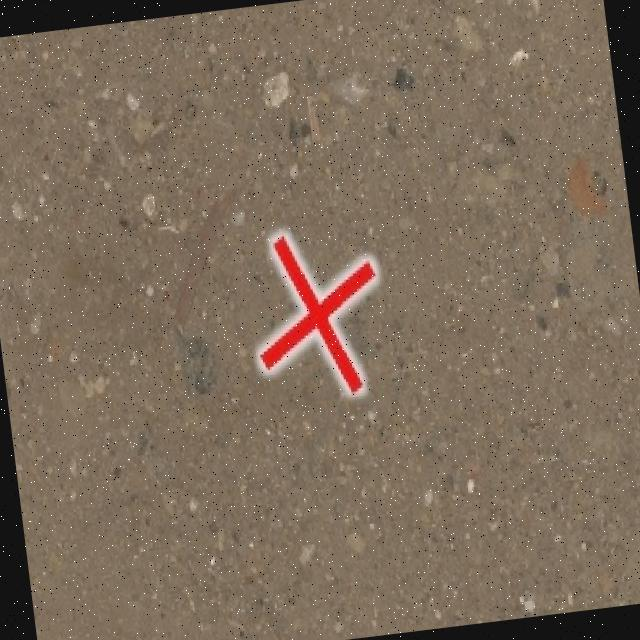x_marker: (245, 224, 388, 400)
